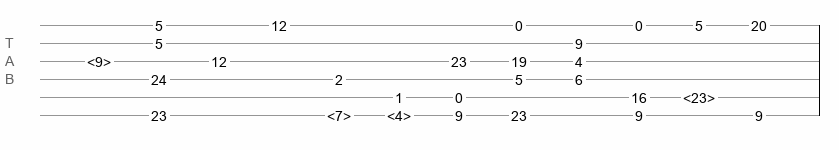0: (455, 90, 463, 100), (515, 18, 523, 28), (635, 18, 643, 28)
1: (395, 90, 403, 100)
12: (211, 54, 227, 64), (271, 18, 287, 28)
16: (631, 90, 647, 100)
19: (511, 54, 527, 64)
2: (335, 72, 343, 82)
20: (751, 18, 767, 28)
23: (151, 108, 167, 118), (451, 54, 467, 64), (511, 108, 527, 118)
24: (151, 72, 167, 82)
4: (575, 54, 583, 64)
5: (155, 18, 163, 28), (155, 36, 163, 46), (515, 72, 523, 82), (695, 18, 703, 28)
6: (575, 72, 583, 82)
9: (455, 108, 463, 118), (575, 36, 583, 46), (635, 108, 643, 118), (755, 108, 763, 118)
harmonic: (683, 90, 715, 100), (87, 54, 111, 64), (327, 108, 351, 118), (387, 108, 411, 118)
